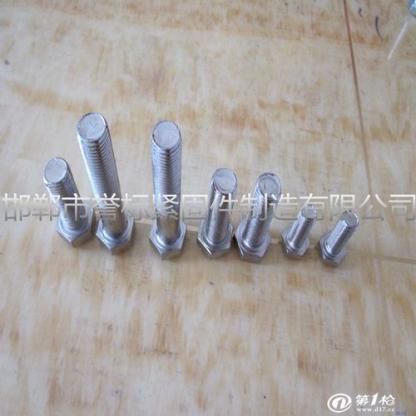FOD: (75, 108, 138, 256), (148, 118, 189, 259), (42, 154, 94, 250), (237, 169, 283, 265), (198, 165, 236, 263), (319, 208, 361, 269), (284, 204, 318, 259)
